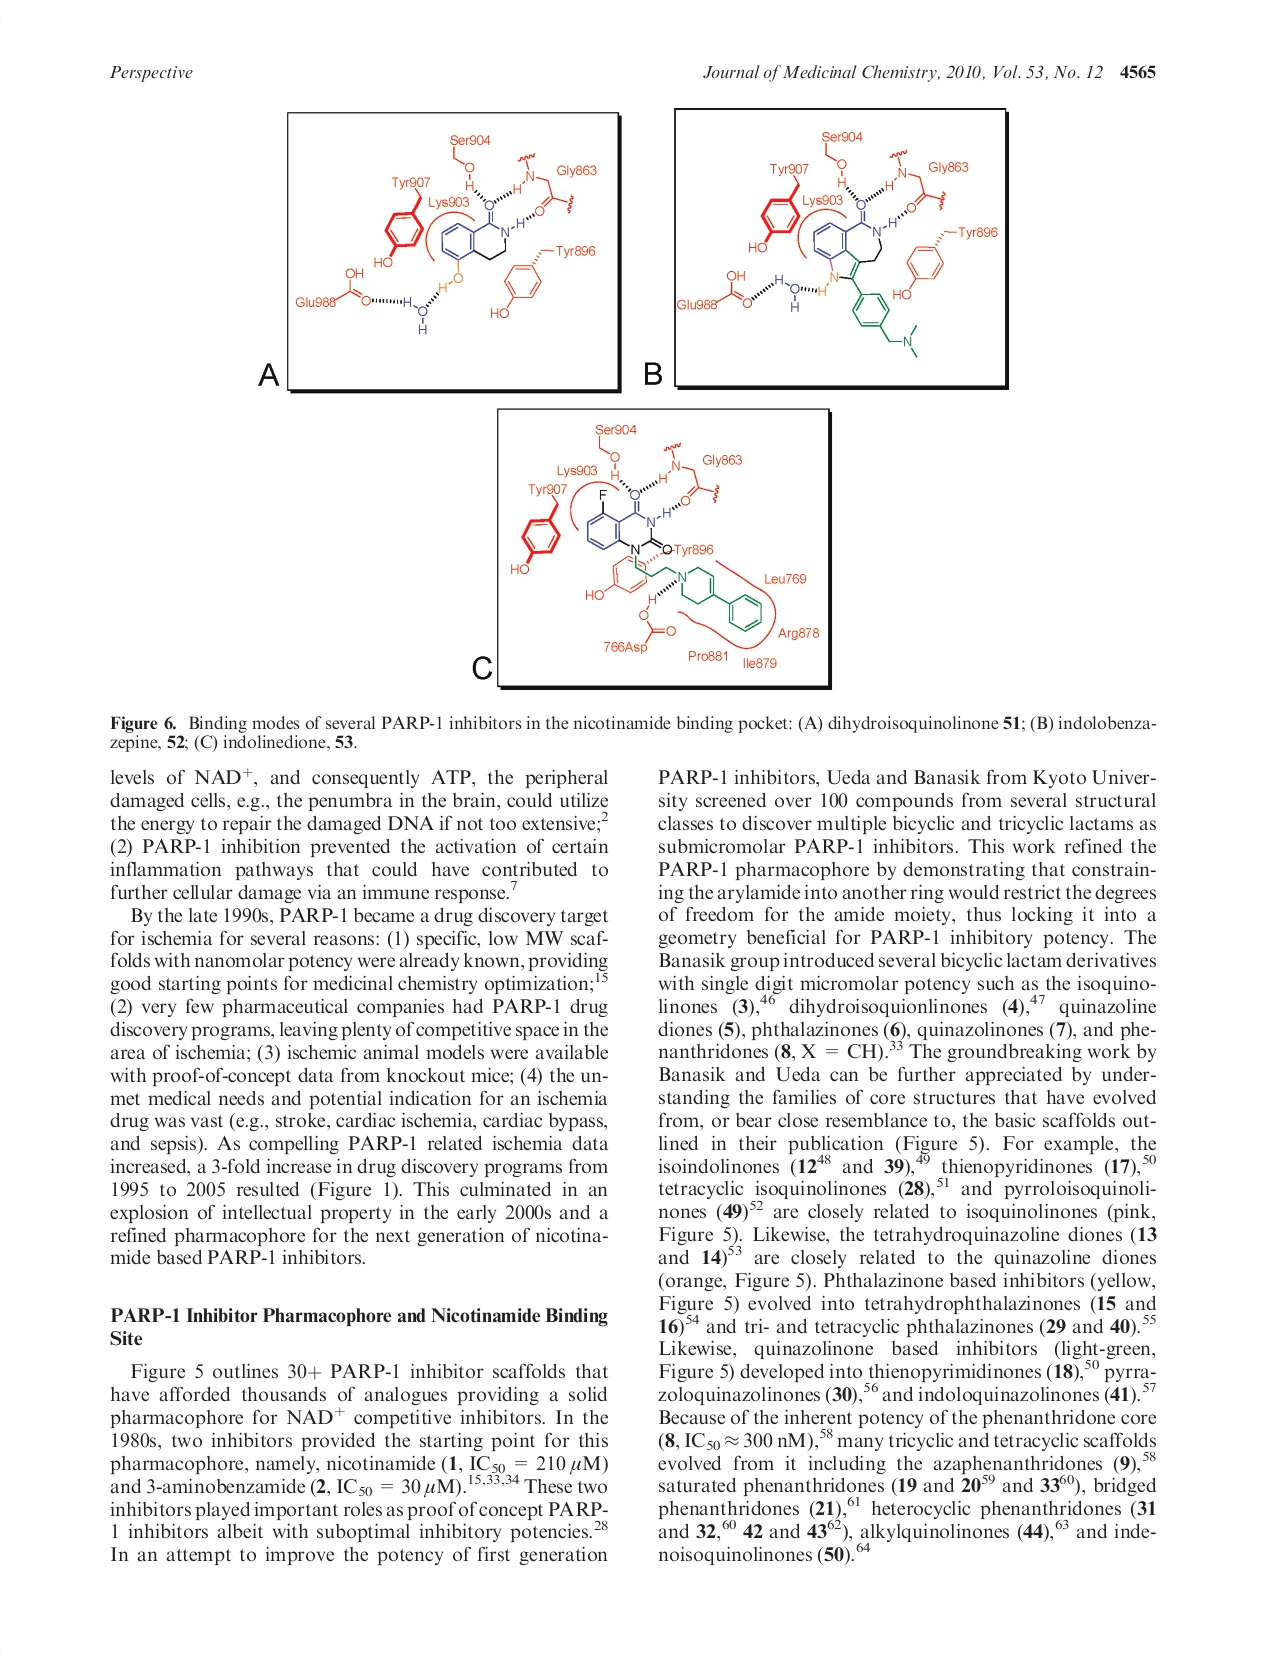exist_molecular: (504, 418, 822, 673), (676, 129, 1000, 366), (294, 132, 602, 332)
